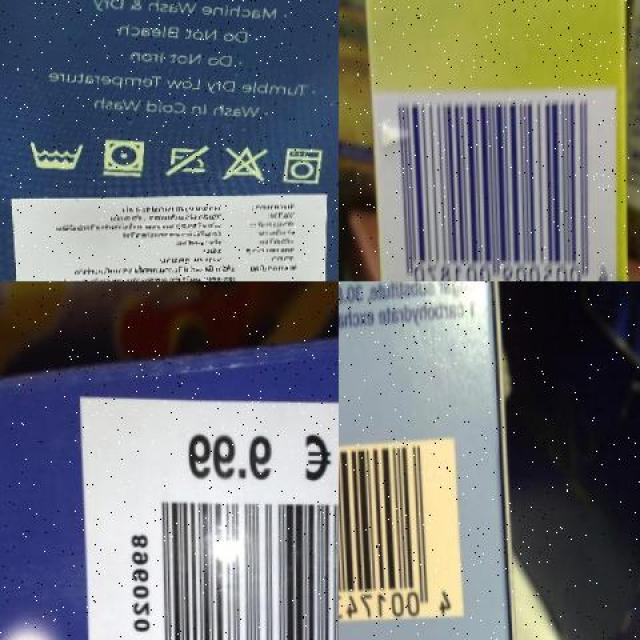Barcode: (373, 88, 618, 281), (145, 486, 338, 640), (338, 437, 458, 628)
